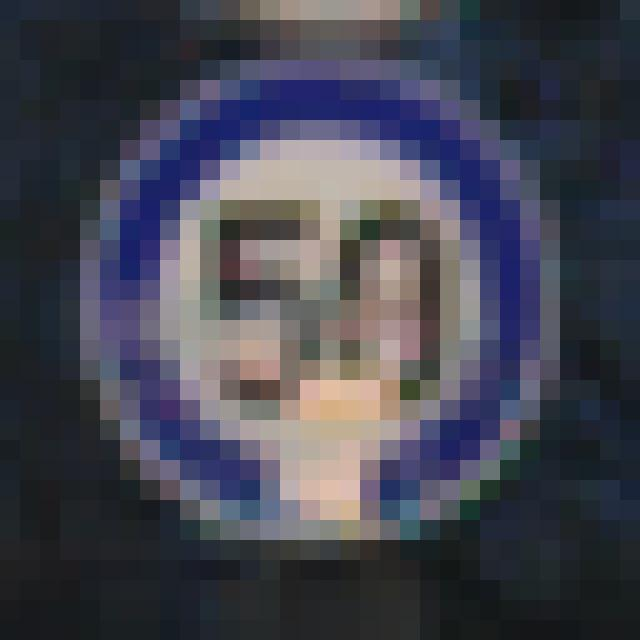SPEED LIMIT 50: (140, 122, 516, 508)
